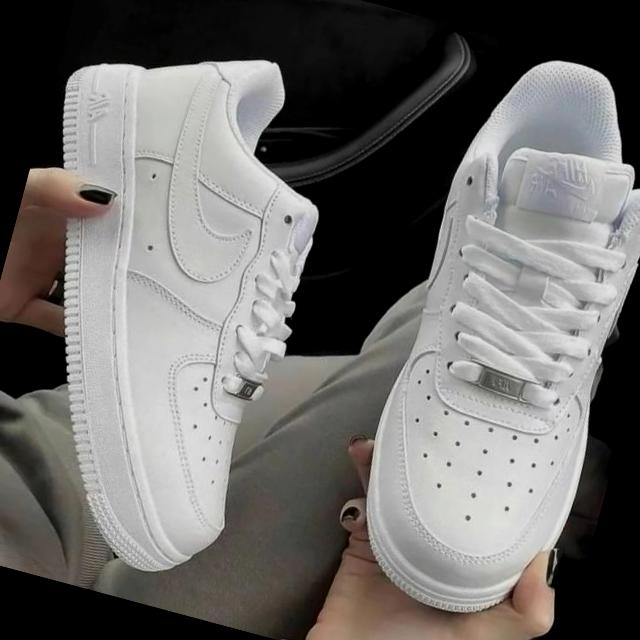nike_original_airforce: (0, 8, 365, 593), (322, 33, 640, 640)
